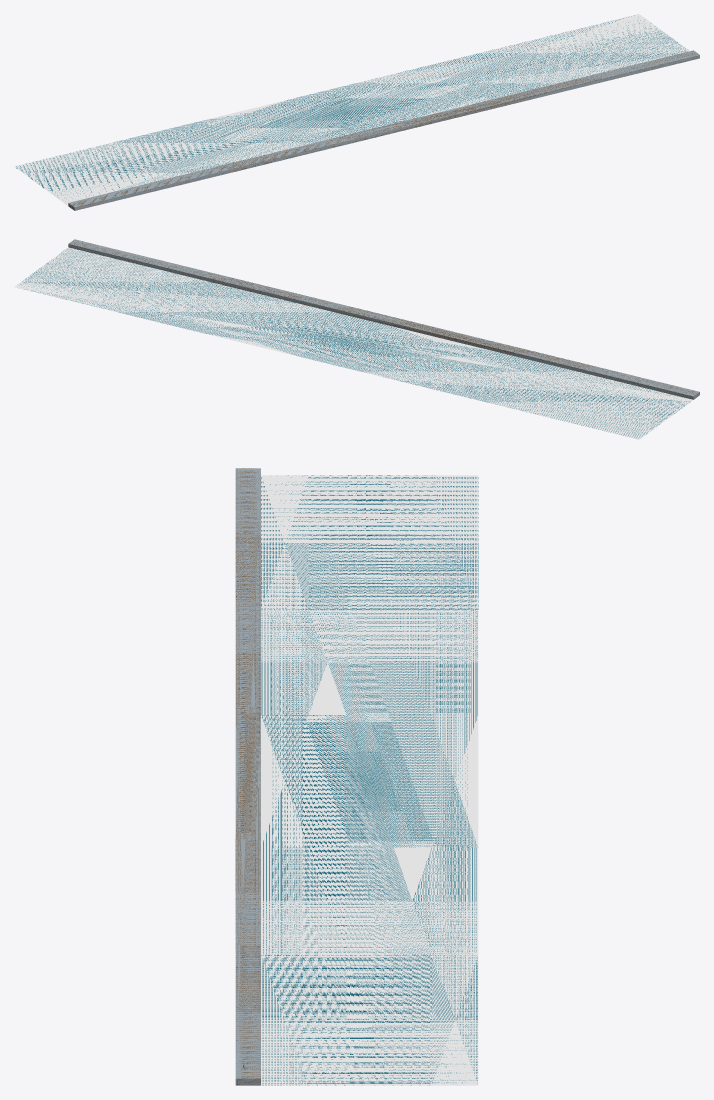
The model's file is Wharf Basic Draft 1a.fbx.
3 views of the same model, one above another, from view 1: azimuth 30°, elevation 25°; view 2: azimuth 150°, elevation 25°; view 3: azimuth 270°, elevation 25° (orthographic). The views are drawn at different scales.
Visible parts, largest first — view 1: Model; view 2: Model; view 3: Model.
Boxes of the visible parts, x1=… form: Model: x1=14, y1=14, x2=699, y2=210; Model: x1=14, y1=239, x2=699, y2=439; Model: x1=235, y1=468, x2=478, y2=1085.
Bounding box in the file's own units: 50000 × 437 × 8402.
